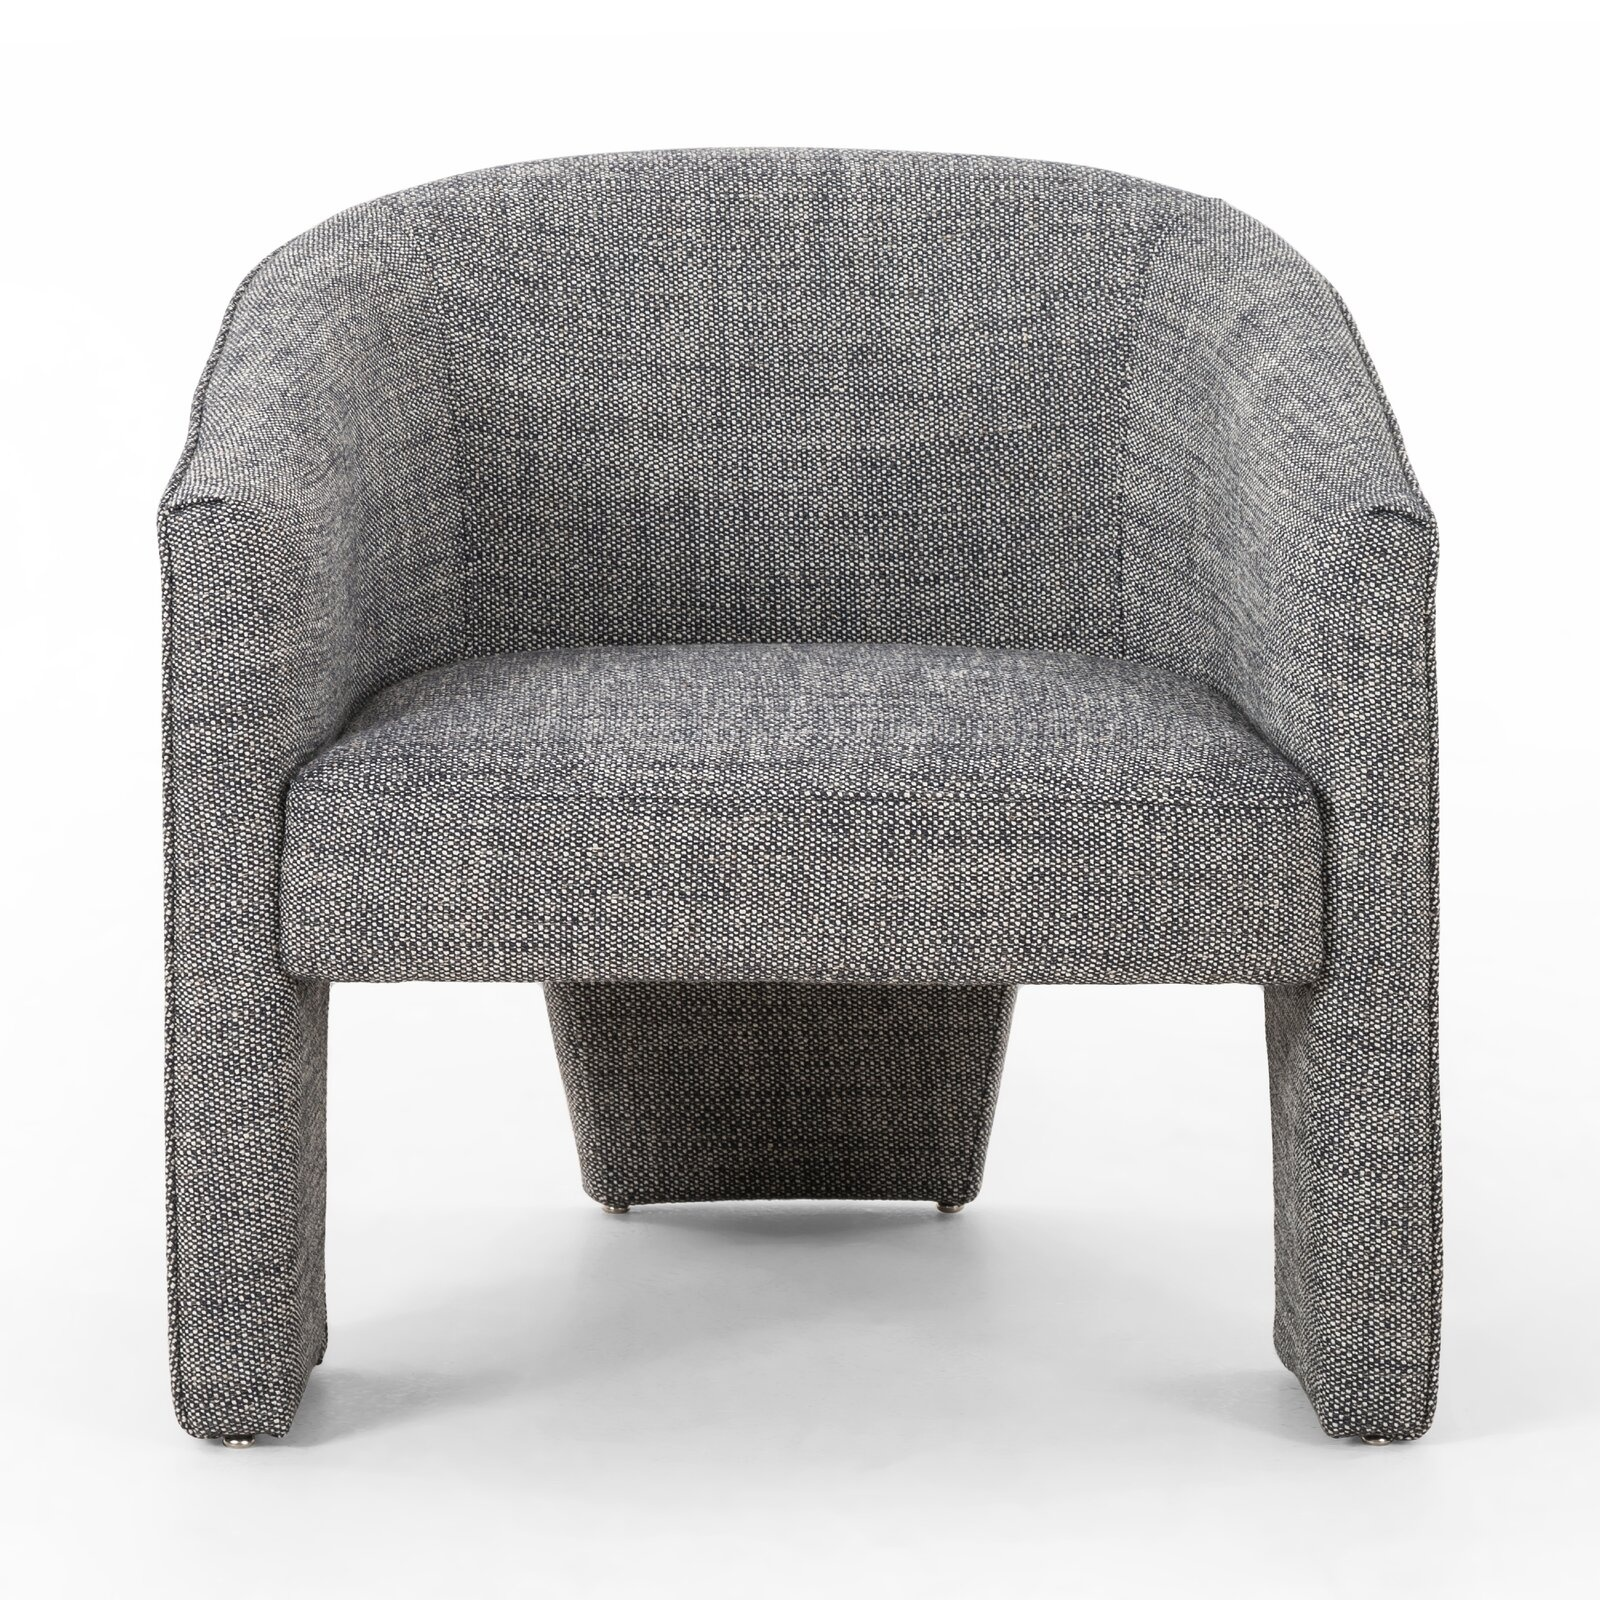obstacle: (163, 151, 1439, 1439)
